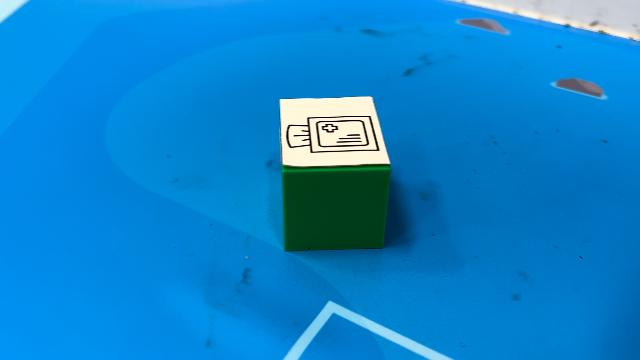napkin: (279, 97, 395, 255)
